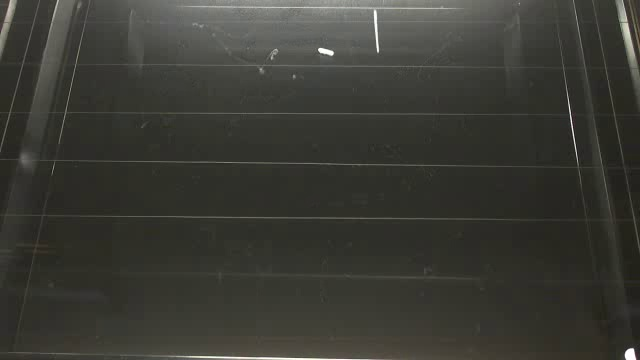Alfa: (370, 8, 382, 53), (314, 43, 338, 59)
